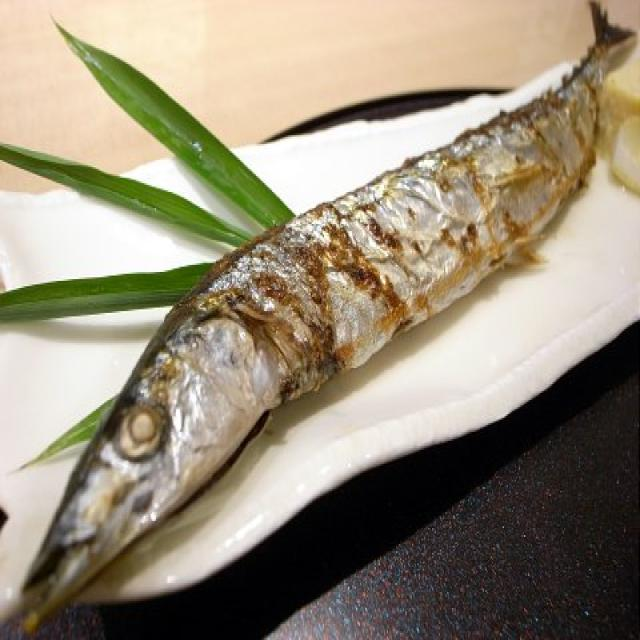熟制海鲜: (16, 0, 640, 640)
